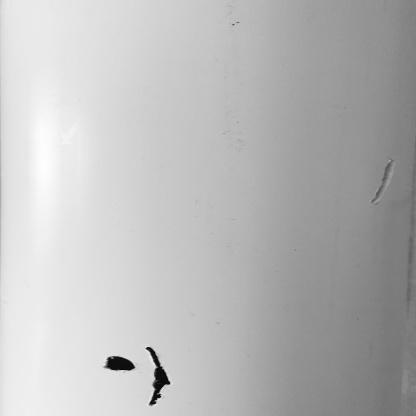kongdong: (144, 340, 178, 408), (101, 352, 140, 374)
sunshang: (368, 156, 401, 208)
